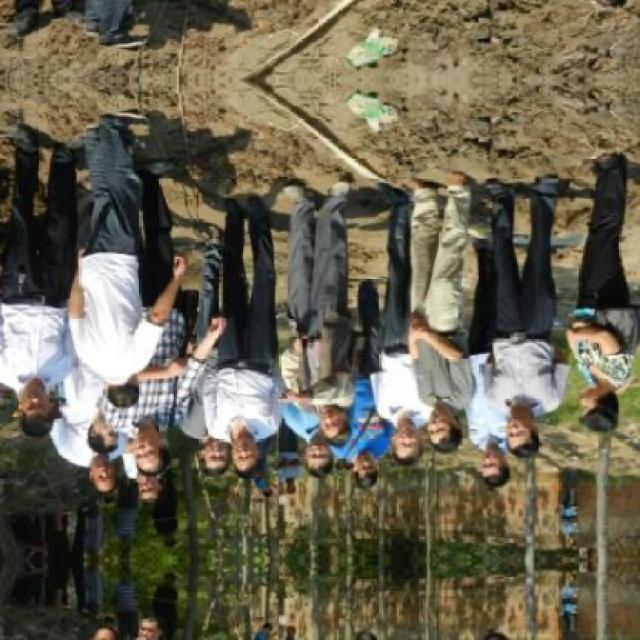sin casco: (373, 374, 497, 451), (67, 360, 201, 414), (552, 376, 632, 453), (487, 394, 559, 474), (118, 425, 197, 493), (290, 426, 345, 501), (322, 393, 382, 447), (220, 425, 282, 474), (0, 384, 67, 422), (405, 416, 437, 466)
